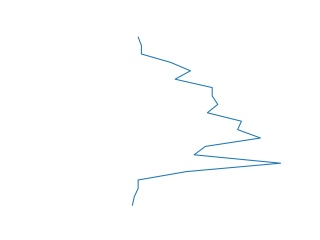floodSwamp: (124, 35, 285, 206)
